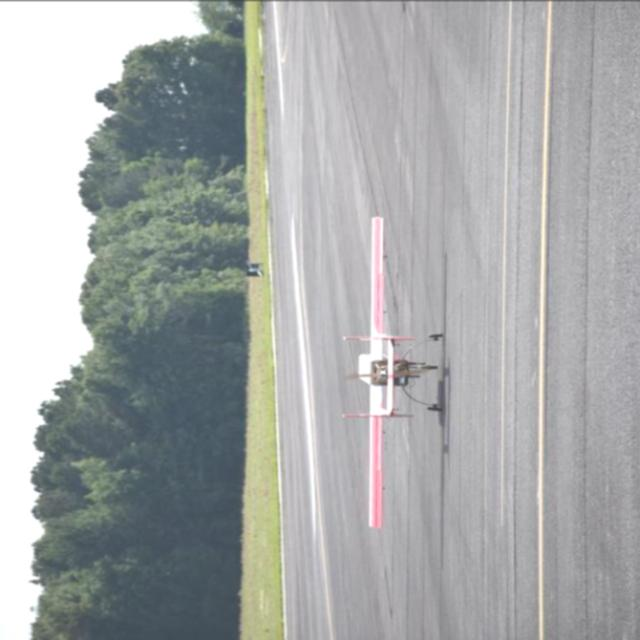plane: (338, 215, 444, 530)
